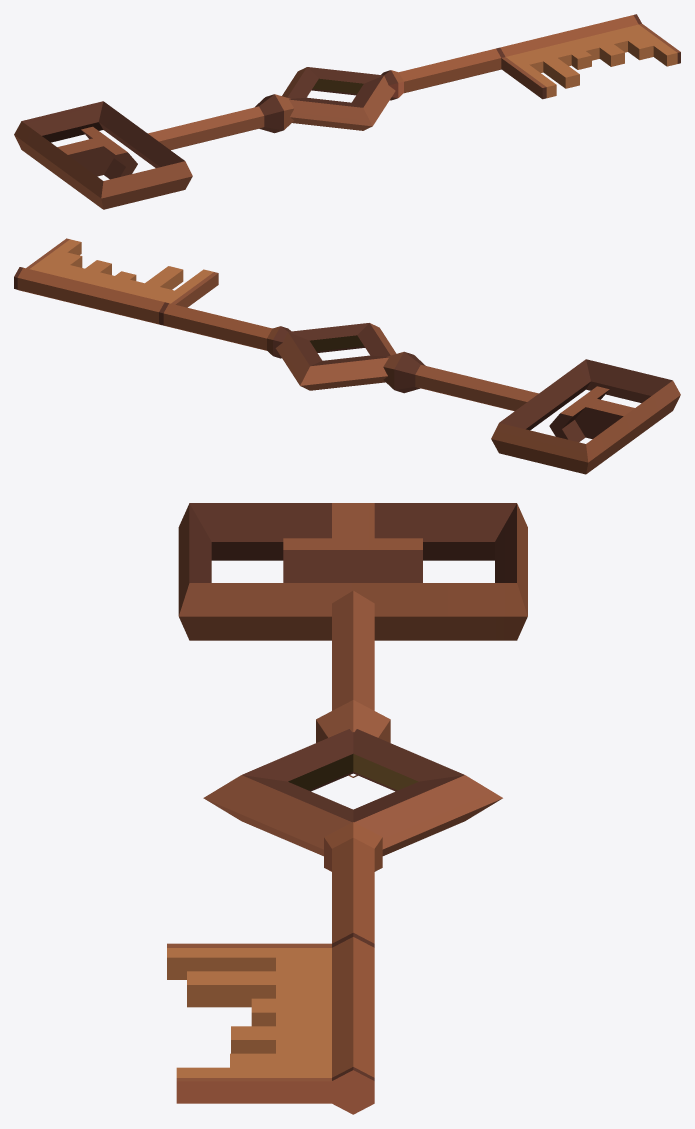
File: Bronze_Key_Pirates.glb
The picture shows the model from 3 angles, top to bottom: view 1: azimuth 30°, elevation 25°; view 2: azimuth 150°, elevation 25°; view 3: azimuth 270°, elevation 25°; orthographic projection. The views are drawn at different scales.
Parts seen in each view (by area): view 1: PirateKey_Bronze; view 2: PirateKey_Bronze; view 3: PirateKey_Bronze.
Boxes of the visible parts, <box> form: PirateKey_Bronze: <box>14,14,680,209</box>; PirateKey_Bronze: <box>14,238,680,474</box>; PirateKey_Bronze: <box>167,503,527,1114</box>.
Size of what is drawn, in the model's own units: 0.6788 by 0.0439 by 0.1831.
Materials: 1 (1 with a texture image).
